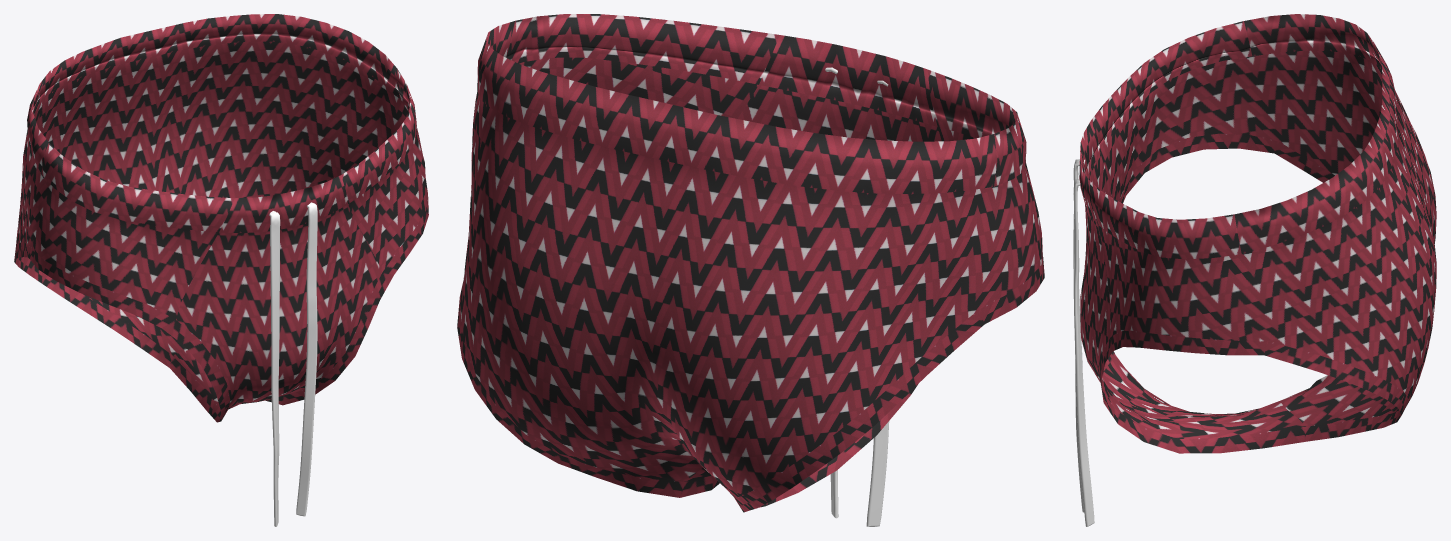
File: SwimBrief_thin_texture_20230315.gltf
The picture shows the model from 3 angles, left to right: view 1: azimuth 30°, elevation 25°; view 2: azimuth 150°, elevation 25°; view 3: azimuth 270°, elevation 25°; orthographic projection. The views are drawn at different scales.
Parts seen in each view (by area): view 1: Cloth, Trim; view 2: Cloth, Trim; view 3: Cloth, Trim.
Boxes of the visible parts, x1,y1,x2,y2 form: Cloth: [14, 14, 428, 422]; Trim: [269, 202, 317, 526]; Cloth: [457, 14, 1044, 512]; Trim: [825, 67, 889, 526]; Cloth: [1079, 14, 1436, 453]; Trim: [1073, 159, 1094, 526].
Bounding box in the file's own units: 34.49 × 35.06 × 26.41.
18 materials, 16 textured.
